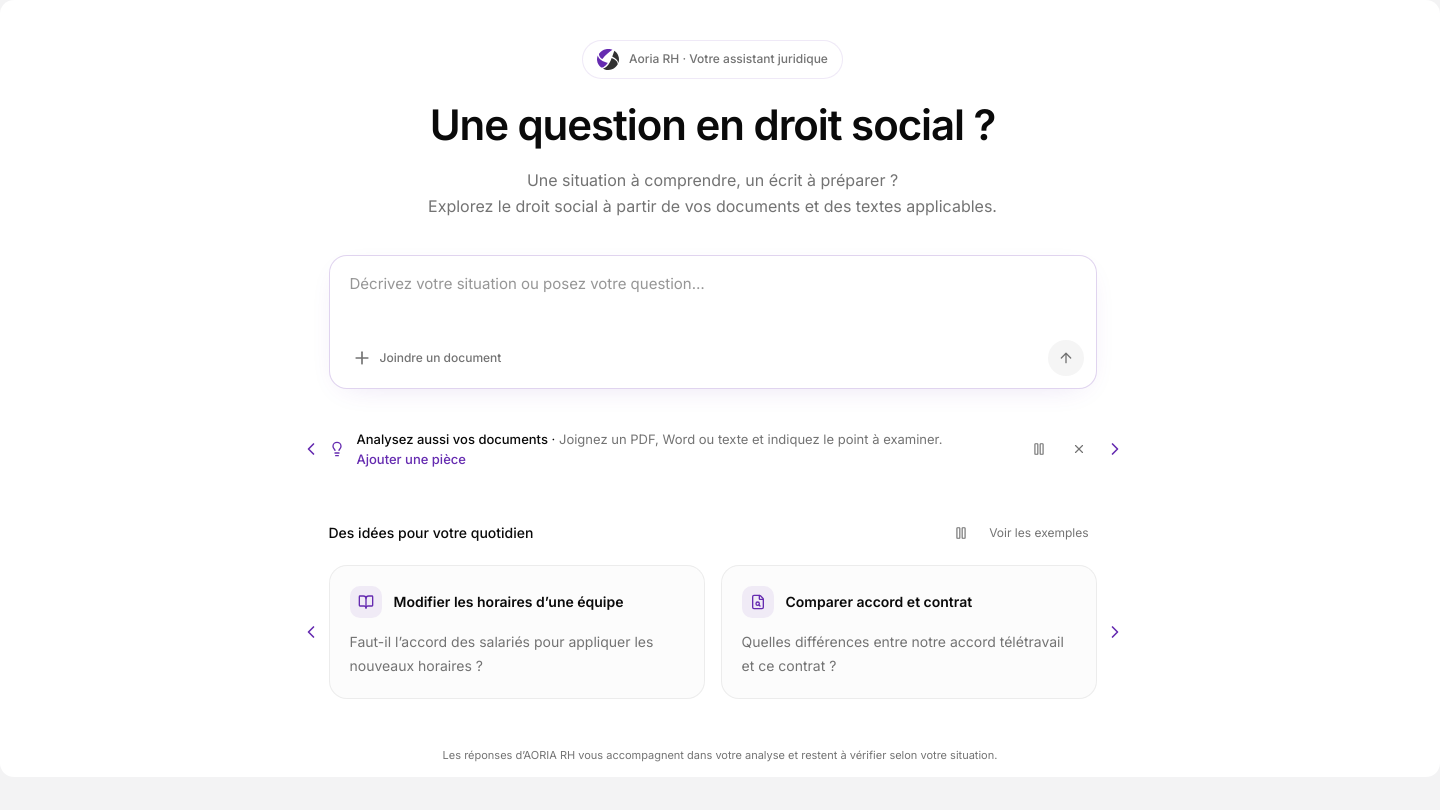
it: shows the input, rotating ideas, then two carousel cards for drh
Click the button "Modifier les horaires d’une équipe".
click(516, 632)  # box 328,565 -> 704,699
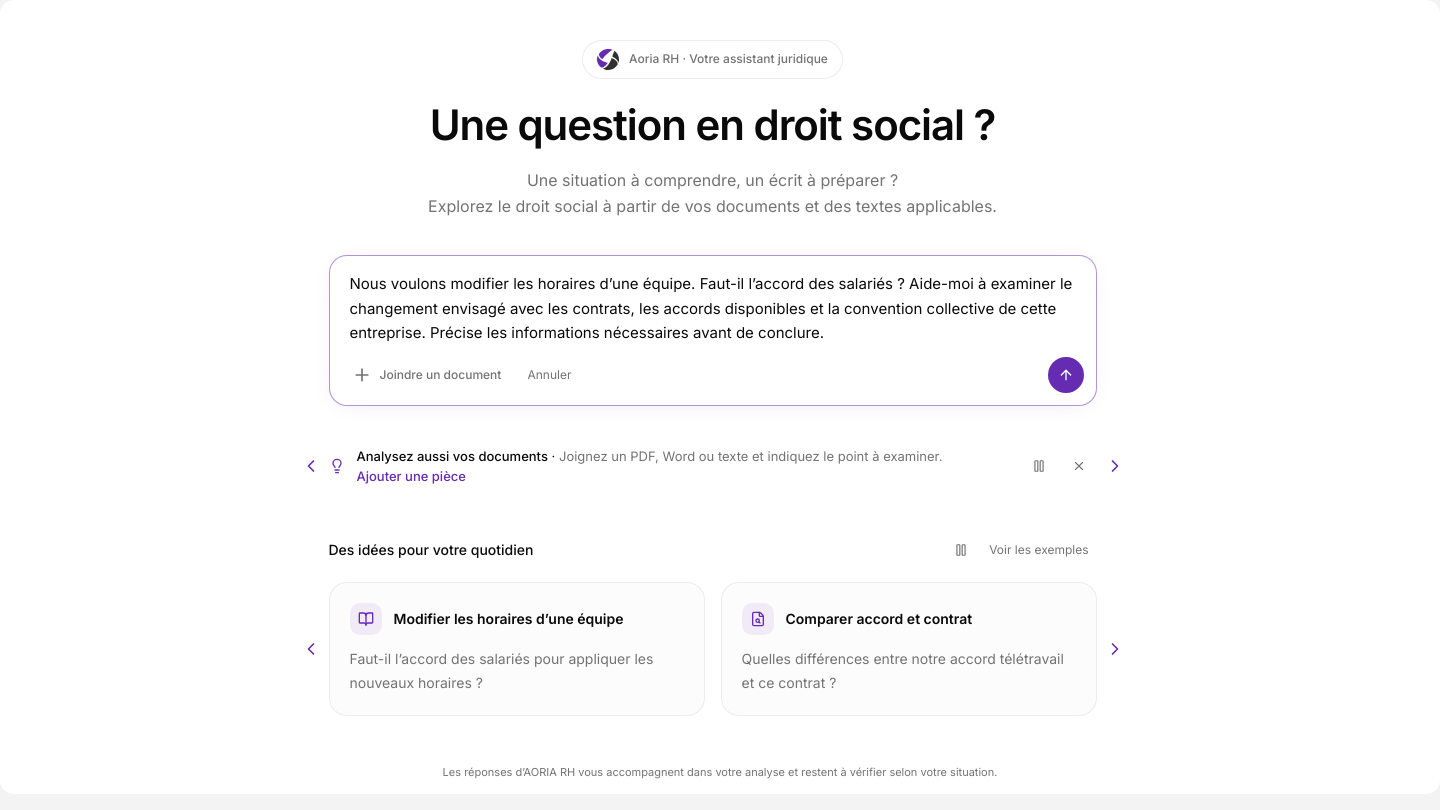
Now the text box is not empty, box 330,256 -> 1096,353
